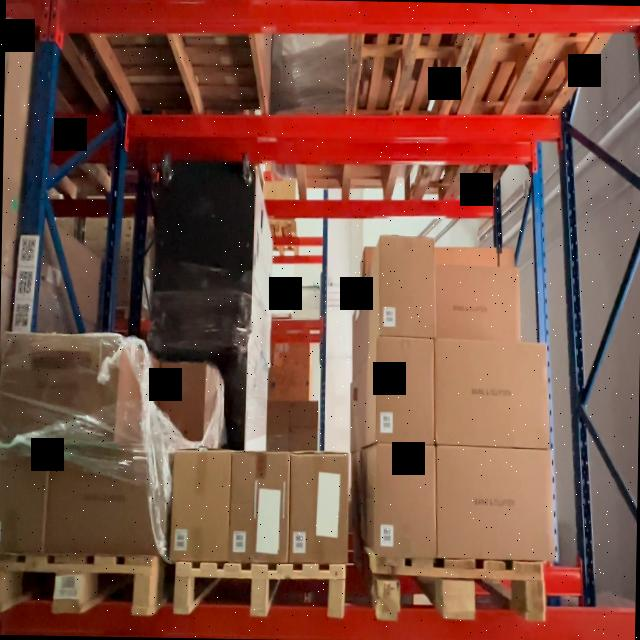box: (436, 447, 556, 560), (44, 451, 166, 555), (436, 336, 548, 446), (375, 443, 436, 558), (170, 448, 230, 564), (290, 454, 348, 562), (232, 452, 290, 560), (376, 336, 434, 442), (378, 232, 436, 331)
